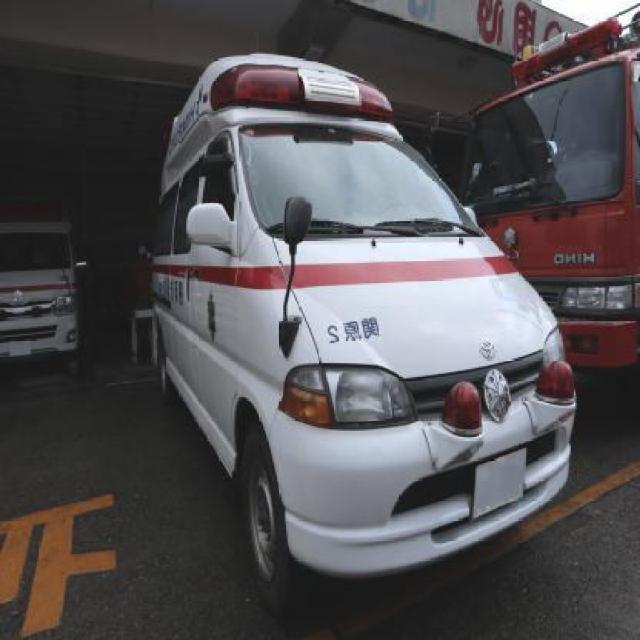emergency: (144, 51, 576, 617), (427, 2, 639, 386), (0, 212, 88, 390)
